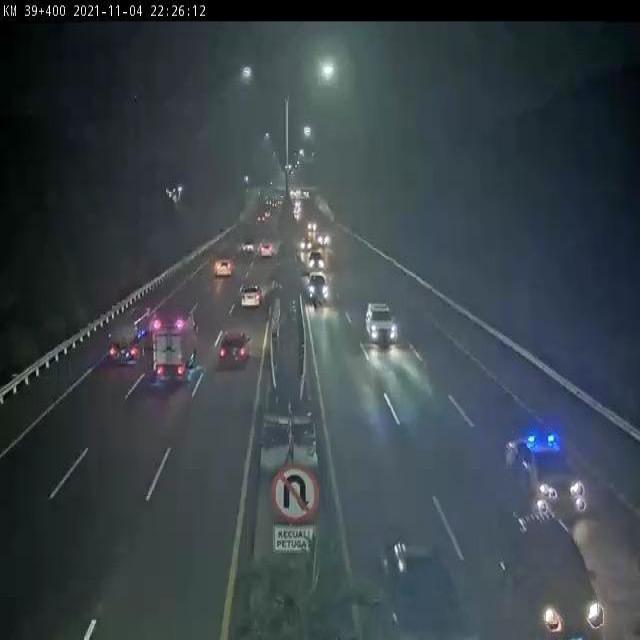car: (502, 516, 610, 625), (373, 536, 464, 627), (502, 429, 590, 511), (359, 298, 412, 351), (219, 325, 253, 372), (305, 268, 334, 304), (240, 279, 264, 309), (212, 252, 234, 279), (262, 233, 275, 266), (310, 251, 327, 269), (301, 233, 313, 256)
truck-l-: (102, 306, 146, 362)
truck-m-: (156, 302, 202, 386)
